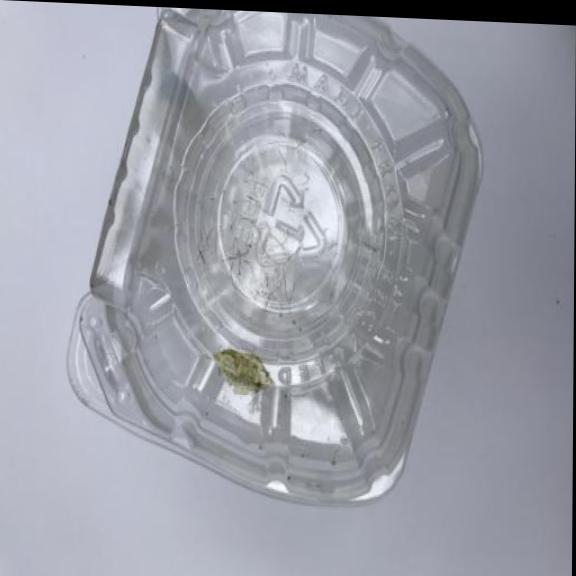Plastik: (64, 3, 487, 518)
